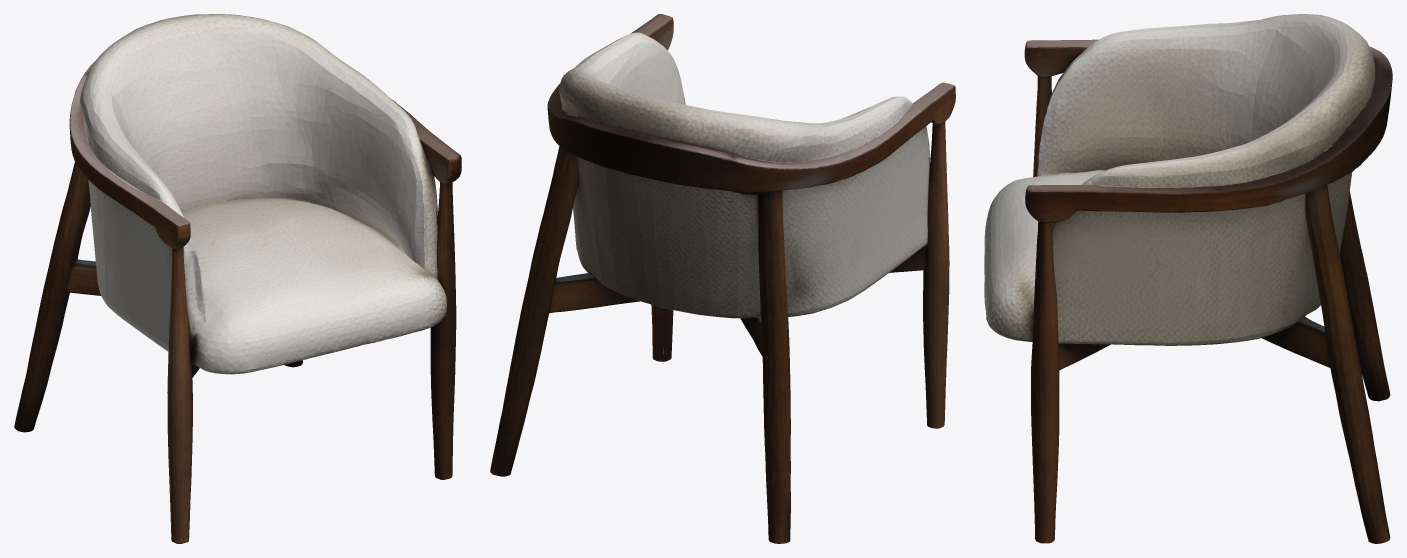
Rendered from SILLA CANADAD.glb.
The picture shows the model from 3 angles, left to right: view 1: azimuth 30°, elevation 25°; view 2: azimuth 150°, elevation 25°; view 3: azimuth 270°, elevation 25°; orthographic projection. The views are drawn at different scales.
Visible parts, largest first — view 1: world; view 2: world; view 3: world.
Part boxes in pixels (box(x1,y1,x2,y2)): world: box(14, 14, 461, 543); world: box(490, 14, 955, 543); world: box(984, 14, 1392, 543).
Size of the model in its own units: 0.7998 by 0.9972 by 0.8797.
1 material, 1 textured.
